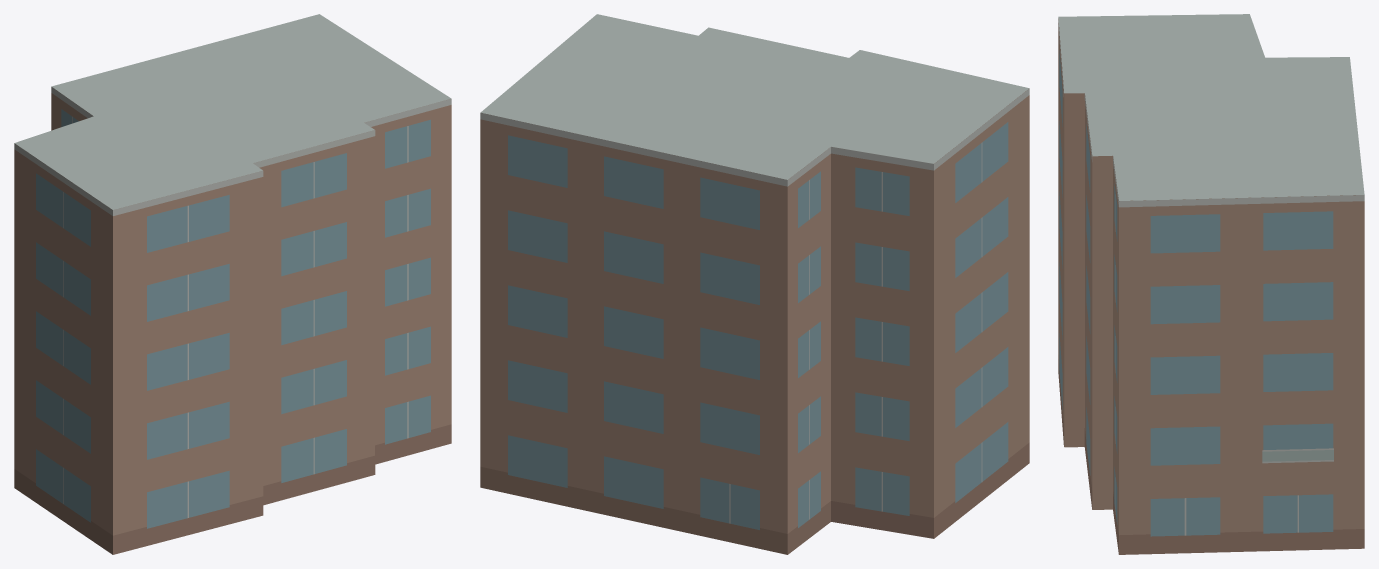
File: survey-upis-32758712.glb
3 views of the same model, side by side, from view 1: azimuth 30°, elevation 25°; view 2: azimuth 150°, elevation 25°; view 3: azimuth 270°, elevation 25° (orthographic). The views are drawn at different scales.
Parts seen in each view (by area): view 1: survey-upis-32758712.tmp; view 2: survey-upis-32758712.tmp; view 3: survey-upis-32758712.tmp.
Boxes of the visible parts, bbox=[...] form: survey-upis-32758712.tmp: bbox=[14, 14, 451, 554]; survey-upis-32758712.tmp: bbox=[480, 14, 1029, 554]; survey-upis-32758712.tmp: bbox=[1058, 14, 1364, 554].
Size of the model in its own units: 15.43 by 13.6 by 10.68.
